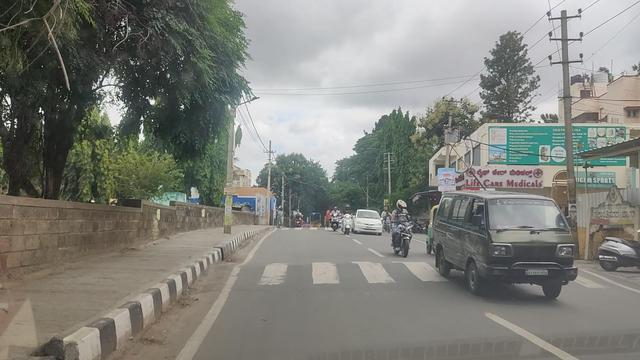LMV: (430, 188, 576, 301)
SpeedBump: (218, 257, 430, 285)
